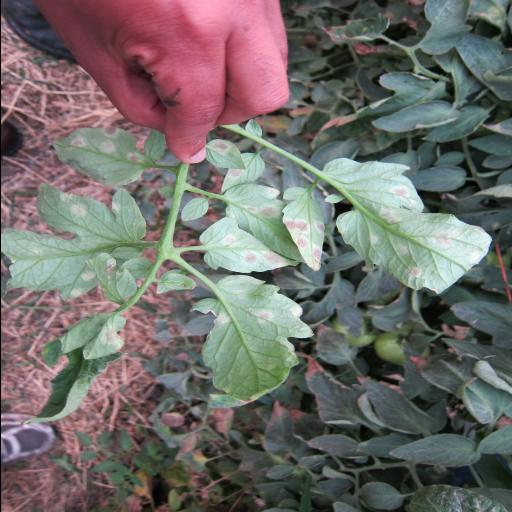Leaf Mold: (318, 157, 492, 295), (196, 274, 314, 427), (0, 184, 144, 296), (48, 126, 164, 190), (196, 213, 302, 277), (220, 182, 304, 262), (284, 186, 332, 272)
